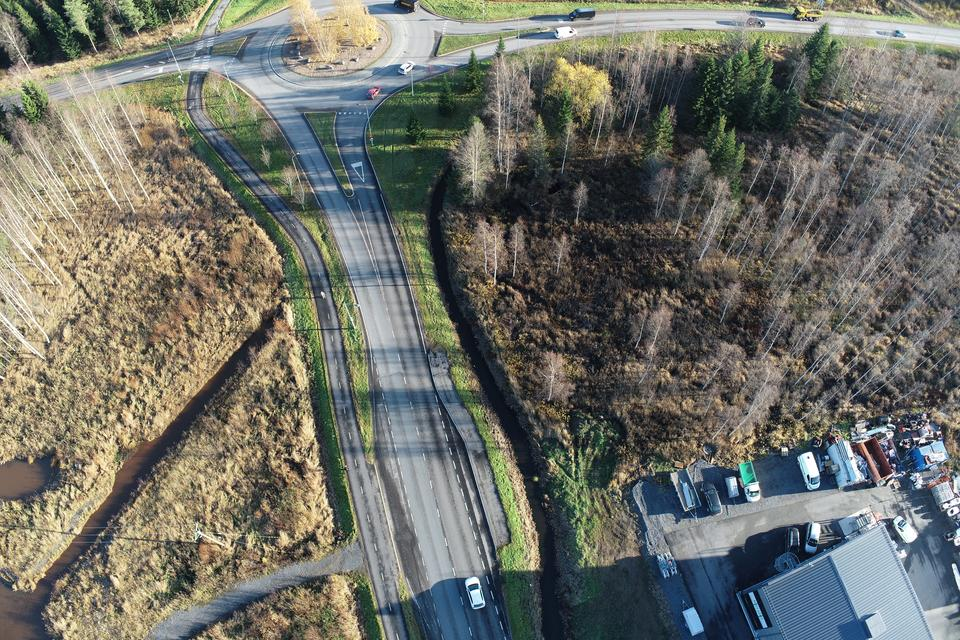intersection: (323, 511, 526, 602), (175, 22, 231, 93)
roundabout: (235, 0, 513, 153)
